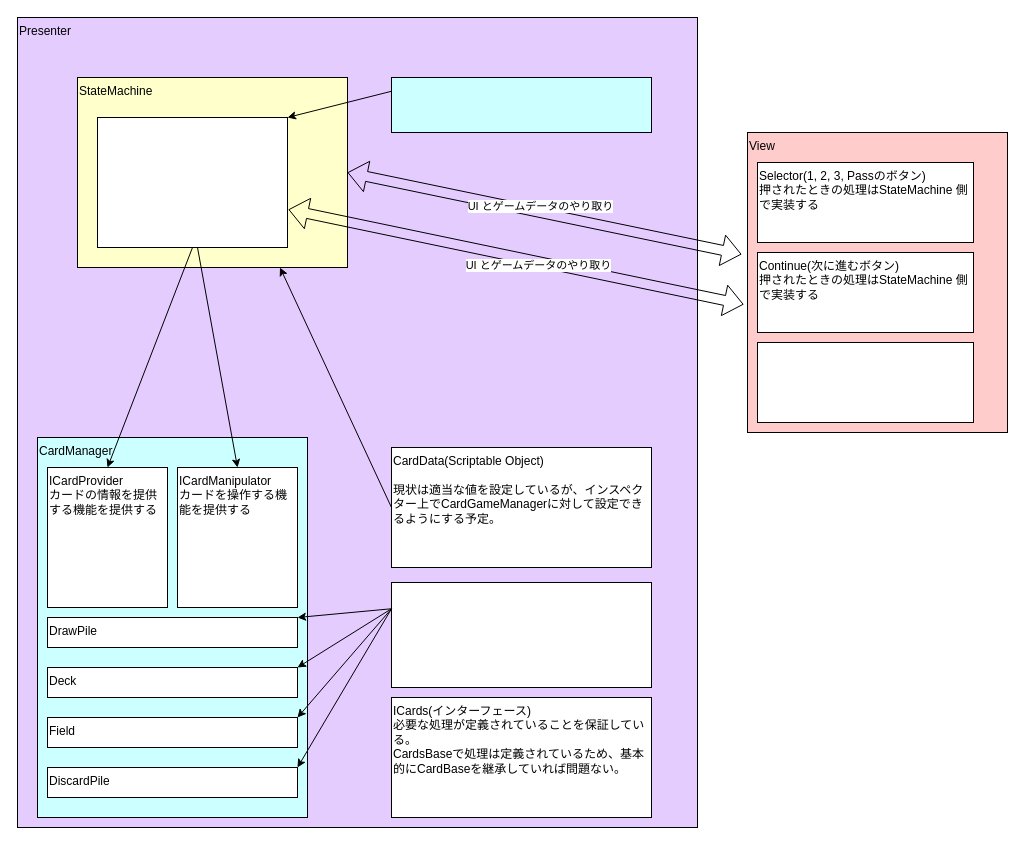
Image size: 1025x845. Some labels were removed from this diagram. Each missing label, with the centre of its shape:
"BattleManager" goes at pixel 521 104.
"CardsBase カードリストごとに必要な処理を定義しており、それを継承させてる。" goes at pixel 521 635.
"各State" goes at pixel 192 182.
